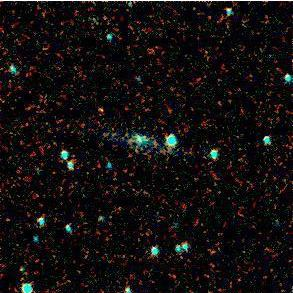star: (91, 95, 121, 125)
